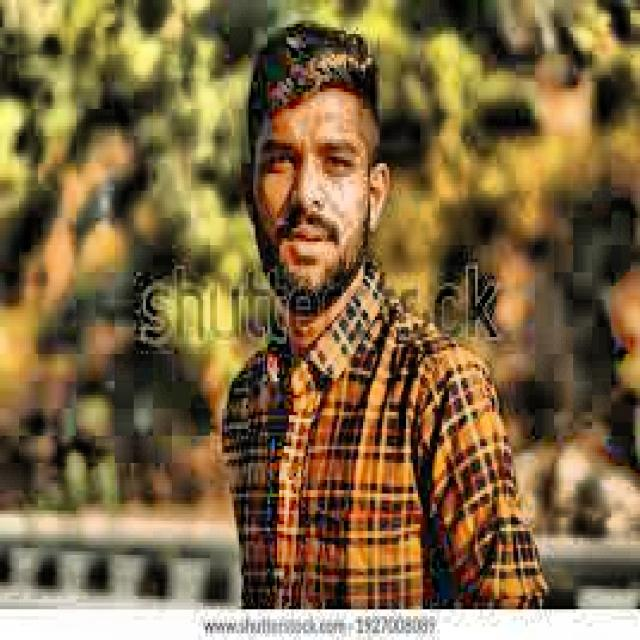Human: (189, 6, 525, 608)
